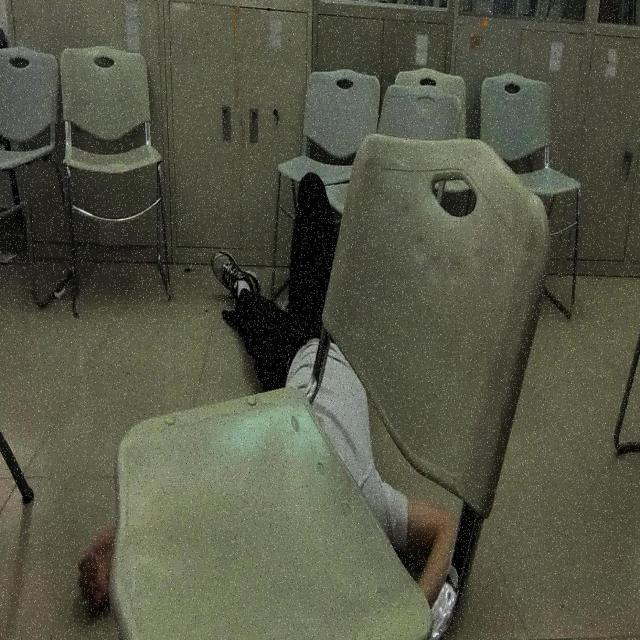fall: (74, 163, 465, 615)
